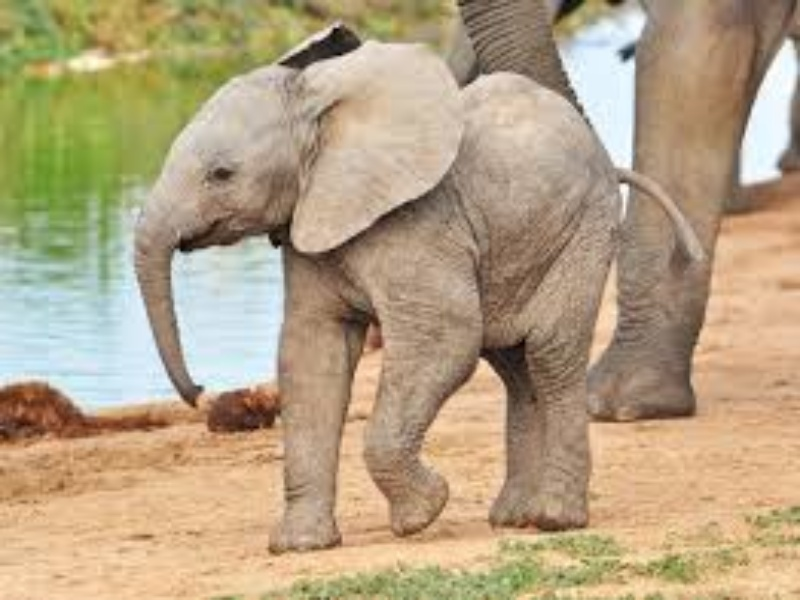elephant: (126, 12, 714, 530)
